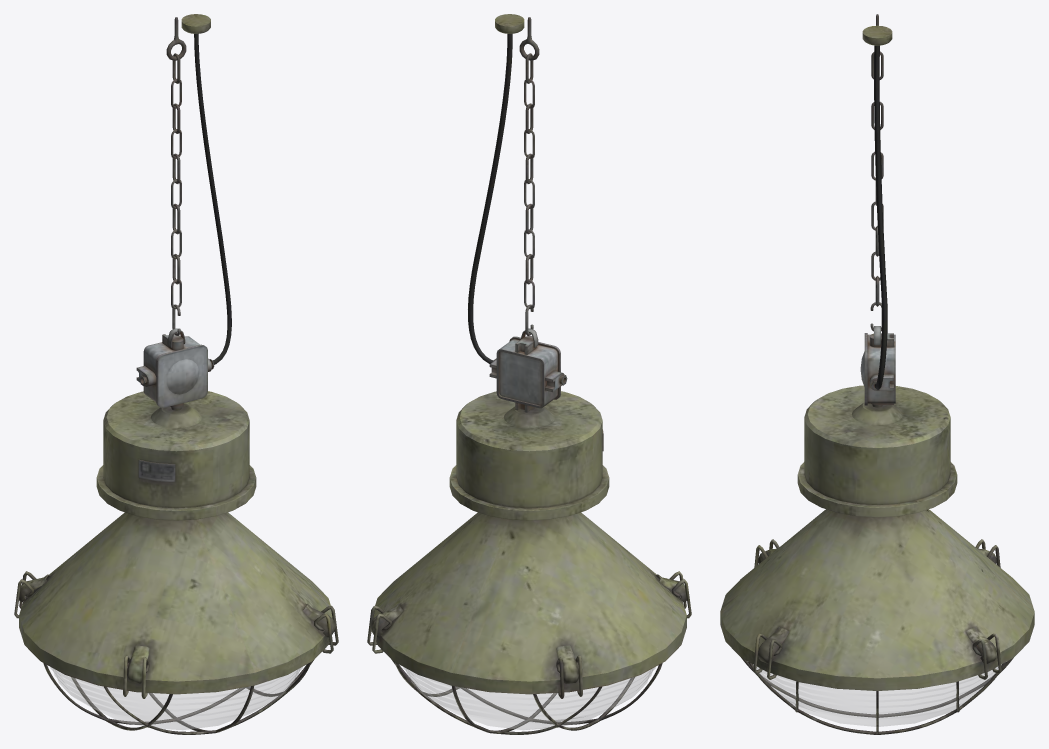
File: hanging_industrial_lamp.glb
3 renders of one model, left to right at view 1: azimuth 30°, elevation 25°; view 2: azimuth 150°, elevation 25°; view 3: azimuth 270°, elevation 25°, orthographic.
Parts seen in each view (by area): view 1: hanging_industrial_lamp; view 2: hanging_industrial_lamp; view 3: hanging_industrial_lamp.
Part boxes in pixels (x1,y1,x2,y2): hanging_industrial_lamp: (14, 14, 338, 734); hanging_industrial_lamp: (367, 14, 691, 734); hanging_industrial_lamp: (720, 14, 1034, 734).
Size of the model in its own units: 0.5497 by 1.36 by 0.5497.
2 materials, 1 textured.
